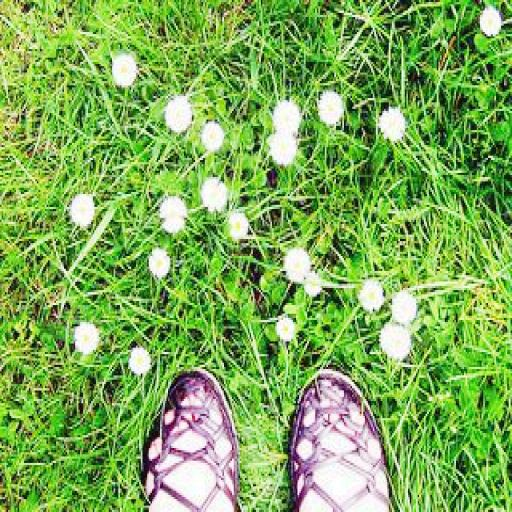daisy: (382, 326, 412, 358), (160, 196, 186, 230), (378, 106, 404, 140), (358, 282, 382, 314), (114, 54, 138, 86), (166, 98, 189, 130), (394, 290, 416, 322), (269, 135, 294, 162), (288, 250, 309, 282), (204, 182, 226, 212), (74, 194, 96, 224), (75, 322, 96, 352), (277, 105, 299, 132), (148, 252, 170, 277), (322, 94, 342, 121), (230, 213, 248, 237), (483, 11, 501, 34), (133, 348, 149, 373), (205, 124, 221, 149), (276, 318, 294, 339), (306, 275, 320, 297)
